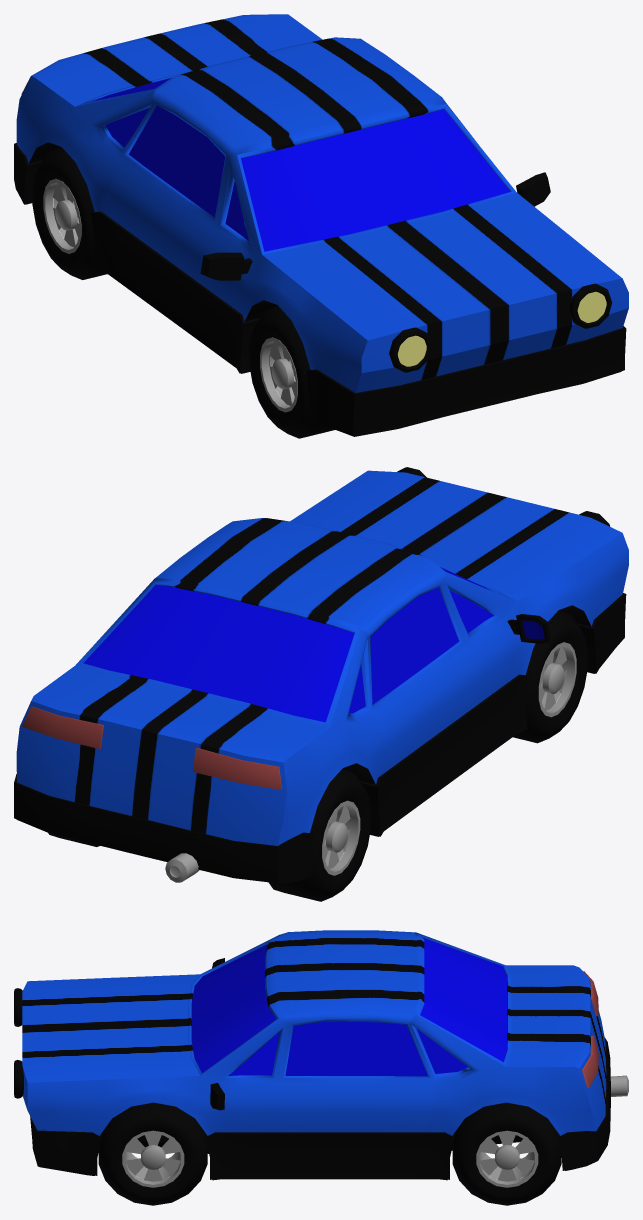
File: Muscle Evolution1 Black TrilineBlackSkyBlue Blue LightGrey.glb
3 views of the same model, one above another, from view 1: azimuth 30°, elevation 25°; view 2: azimuth 150°, elevation 25°; view 3: azimuth 270°, elevation 25° (orthographic). The views are drawn at different scales.
Parts seen in each view (by area): view 1: evo1_body4_f1_dupl, evo1_sill0_f1_dupl, evo1_frontGlass_f1_dupl, evo1_glasseBigR_f1_dupl, evo1_tire_rf_f1_dupl, evo1_tire_rf1_f1_dupl, evo1_rim_A_rb_f1_dupl, evo1_rim_A_rf_f1_dupl, evo1_mirorR3_f1_dupl, evo1_blockLightR_f1_dupl, evo1_blockLightL_f1_dupl, evo1_mirorL3_f1_dupl (+4 smaller); view 2: evo1_body4_f1_dupl, evo1_sill0_f1_dupl, evo1_BackGlassGlass_f1_dupl, evo1_glasseBigR_f1_dupl, evo1_tire_rf_f1_dupl, evo1_tire_rf1_f1_dupl, evo1_rim_A_rf_f1_dupl, evo1_rim_A_rb_f1_dupl, evo1_redlightR2_f1_dupl, evo1_redlightL2_f1_dupl, evo1_glassfR_f1_dupl, evo1_pipe1_f1_dupl (+1 smaller); view 3: evo1_body4_f1_dupl, evo1_sill0_f1_dupl, evo1_BackGlassGlass_f1_dupl, evo1_glasseBigL_f1_dupl, evo1_frontGlass_f1_dupl, evo1_tire_lb_f1_dupl, evo1_tire_lf_f1_dupl, evo1_rim_A_lf_f1_dupl, evo1_rim_A_lb_f1_dupl, evo1_glassfL_f1_dupl, evo1_glassbL_f1_dupl, evo1_GroundBody_f1_dupl (+1 smaller).
Part boxes in pixels (box(x1,y1,x2,y2)): evo1_body4_f1_dupl: box(16, 14, 628, 392); evo1_sill0_f1_dupl: box(14, 143, 626, 436); evo1_frontGlass_f1_dupl: box(241, 109, 510, 251); evo1_glasseBigR_f1_dupl: box(128, 105, 225, 217); evo1_tire_rf_f1_dupl: box(32, 147, 107, 279); evo1_tire_rf1_f1_dupl: box(249, 306, 334, 438); evo1_rim_A_rb_f1_dupl: box(43, 179, 81, 253); evo1_rim_A_rf_f1_dupl: box(260, 337, 297, 412); evo1_mirorR3_f1_dupl: box(200, 252, 252, 280); evo1_blockLightR_f1_dupl: box(389, 327, 432, 372); evo1_blockLightL_f1_dupl: box(569, 283, 612, 328); evo1_mirorL3_f1_dupl: box(516, 172, 550, 206); evo1_body4_f1_dupl: box(16, 470, 628, 845); evo1_sill0_f1_dupl: box(14, 593, 626, 882); evo1_BackGlassGlass_f1_dupl: box(83, 584, 354, 722); evo1_glasseBigR_f1_dupl: box(370, 587, 458, 704); evo1_tire_rf_f1_dupl: box(268, 769, 371, 901); evo1_tire_rf1_f1_dupl: box(513, 610, 587, 743); evo1_rim_A_rf_f1_dupl: box(538, 642, 576, 717); evo1_rim_A_rb_f1_dupl: box(322, 800, 360, 875); evo1_redlightR2_f1_dupl: box(192, 748, 281, 789); evo1_redlightL2_f1_dupl: box(22, 706, 103, 748); evo1_glassfR_f1_dupl: box(449, 590, 493, 632); evo1_pipe1_f1_dupl: box(165, 853, 199, 882); evo1_body4_f1_dupl: box(22, 930, 606, 1152); evo1_sill0_f1_dupl: box(30, 1037, 610, 1179); evo1_BackGlassGlass_f1_dupl: box(420, 937, 507, 1061); evo1_glasseBigL_f1_dupl: box(285, 1021, 427, 1076); evo1_frontGlass_f1_dupl: box(191, 944, 276, 1073); evo1_tire_lb_f1_dupl: box(452, 1102, 561, 1205); evo1_tire_lf_f1_dupl: box(98, 1102, 207, 1205); evo1_rim_A_lf_f1_dupl: box(122, 1130, 184, 1187); evo1_rim_A_lb_f1_dupl: box(476, 1130, 538, 1187); evo1_glassfL_f1_dupl: box(228, 1032, 279, 1075); evo1_glassbL_f1_dupl: box(416, 1028, 467, 1073); evo1_GroundBody_f1_dupl: box(40, 1140, 594, 1180).
Bounding box in the file's own units: 177 × 112 × 331.
Materials: 7 (1 with a texture image).
